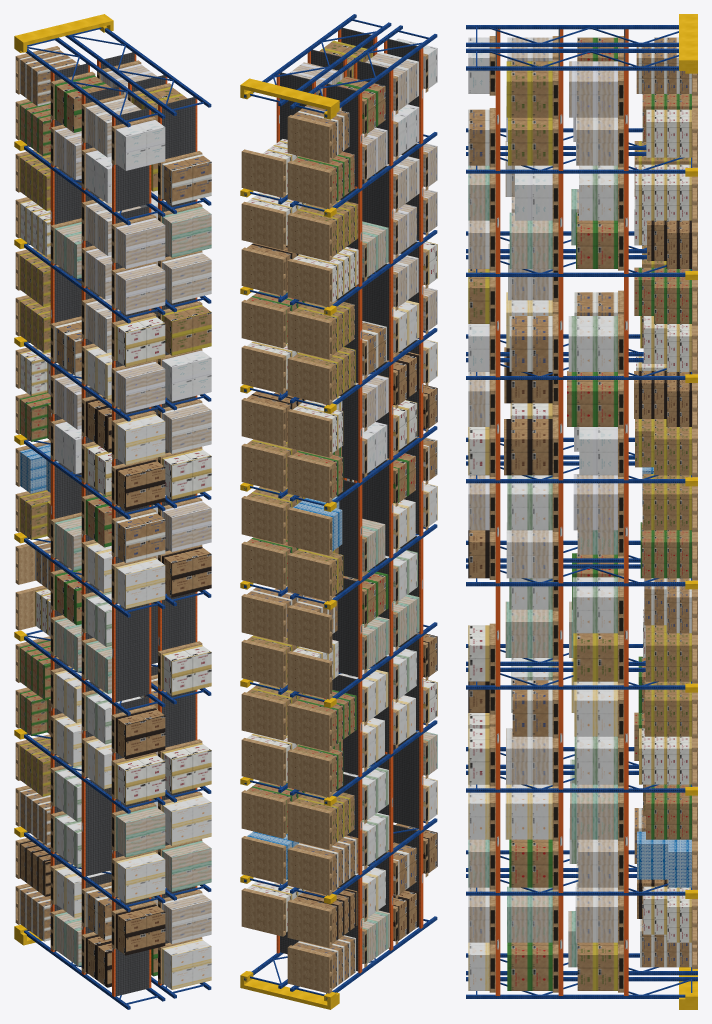
File: racks_w4_s.gltf
3 renders of one model, left to right at view 1: azimuth 30°, elevation 25°; view 2: azimuth 150°, elevation 25°; view 3: azimuth 270°, elevation 25°, orthographic. The views are drawn at different scales.
Visible parts, largest first — view 1: racks_w4_s; view 2: racks_w4_s; view 3: racks_w4_s.
Boxes of the visible parts, box(x1,y1,x2,y2) form: racks_w4_s: box(14, 14, 211, 1009); racks_w4_s: box(240, 14, 437, 1009); racks_w4_s: box(466, 14, 697, 1009).
Bounding box in the file's own units: 2.6 × 24.86 × 5.5.
20 materials, 20 textured.
